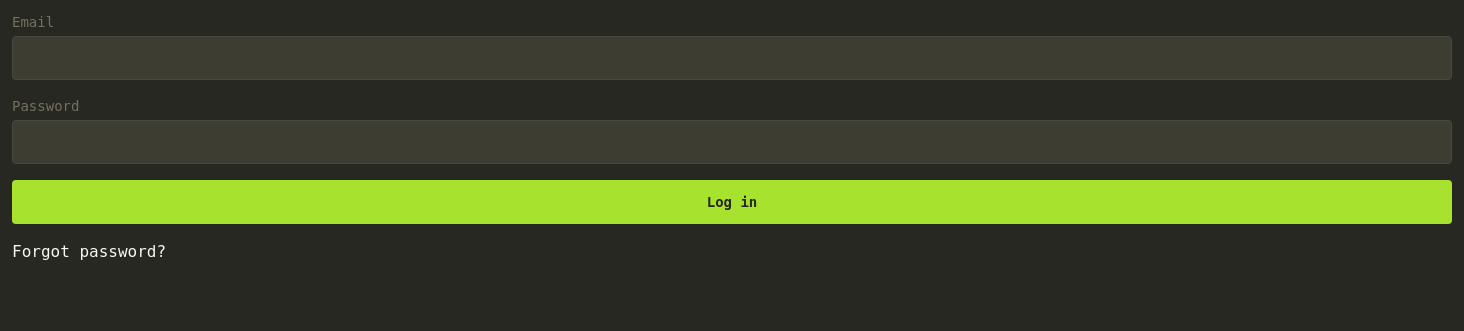
Test: LoginForm › shows error message when signIn throws
In the field labelled "Email": (732, 58) [12,36,1452,80], type "x@x.com"
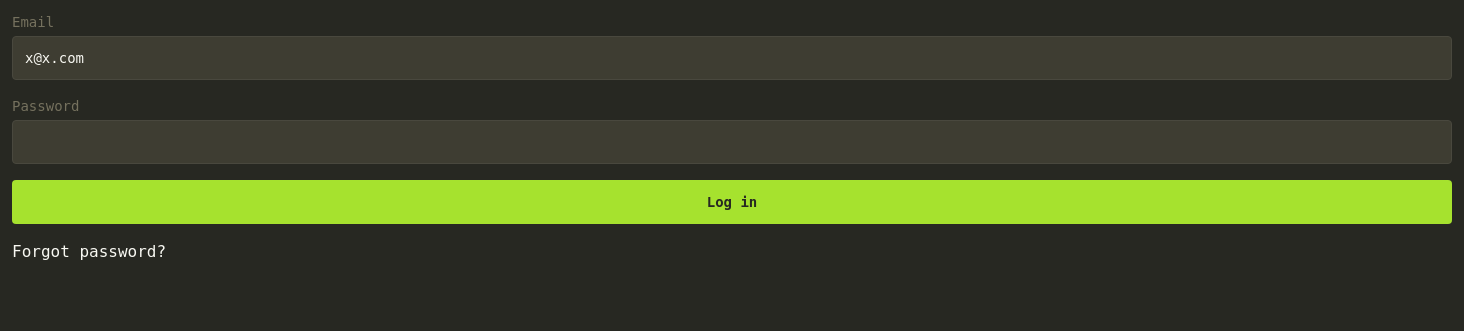
In the password field labelled "Password": (732, 142) [12,120,1452,164], type "wrong"
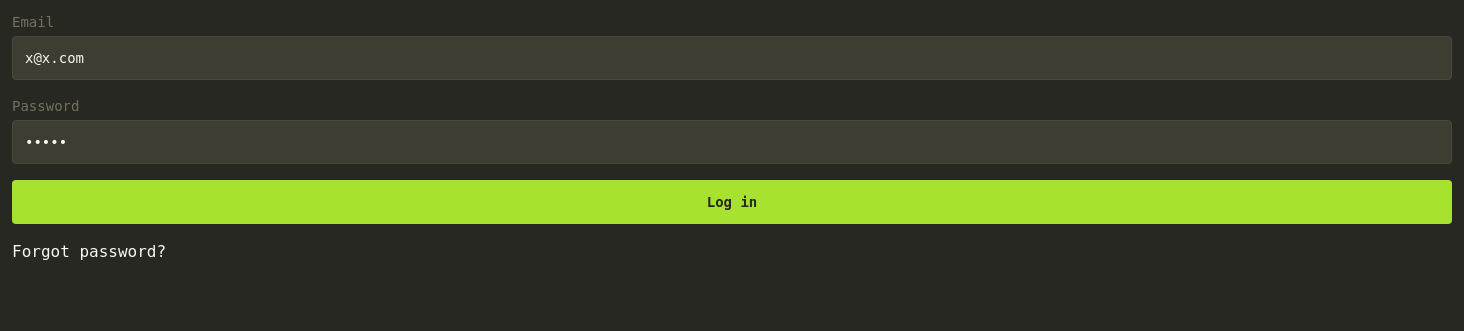
Submit the form
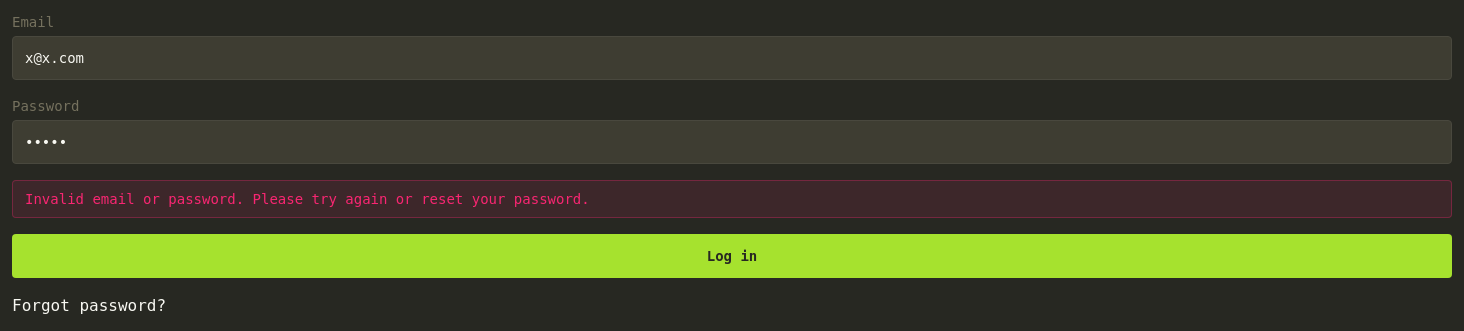
Check: the message "Invalid email or password. Please try again or reset your password." is shown, box [12,180,1452,218]
